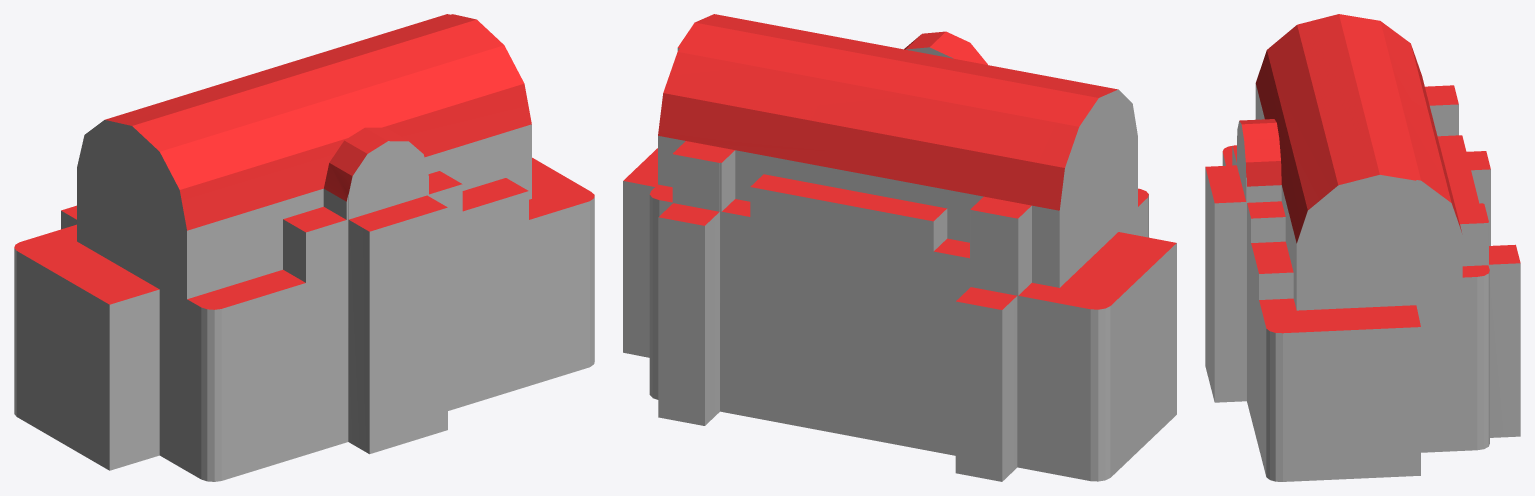
Rendered from DEBY_LOD2_4730822.dae.
3 views of the same model, side by side, from view 1: azimuth 30°, elevation 25°; view 2: azimuth 150°, elevation 25°; view 3: azimuth 270°, elevation 25° (orthographic). The views are drawn at different scales.
Size of the model in its own units: 18.76 by 11.64 by 11.44.
